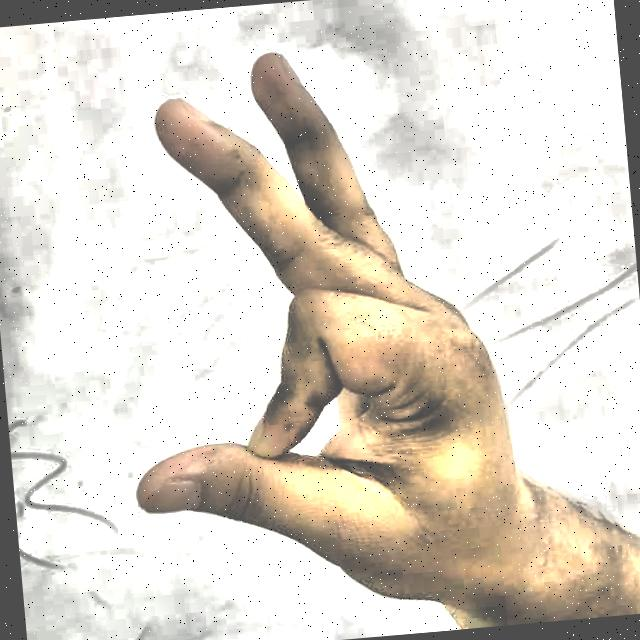Uo: (50, 15, 593, 640)
